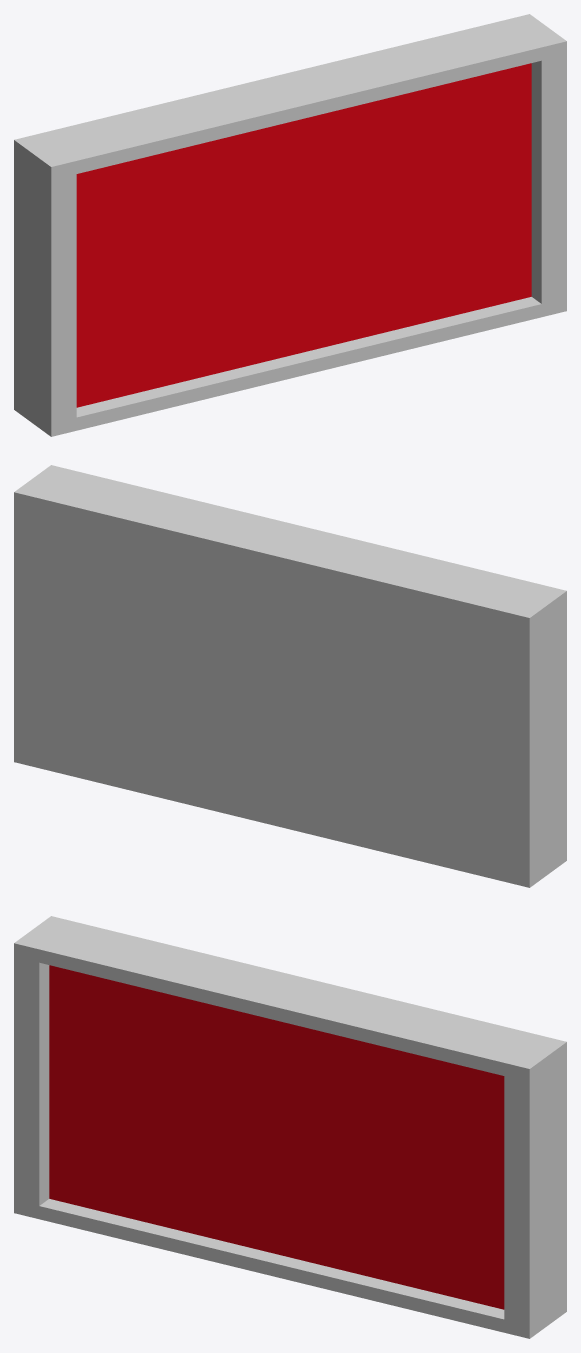
File: Wall 8x4x1 Solid.fbx
3 views of the same model, one above another, from view 1: azimuth 30°, elevation 25°; view 2: azimuth 150°, elevation 25°; view 3: azimuth 330°, elevation 25° (orthographic).
Visible parts, largest first — view 1: wall 8x4x1; view 2: wall 8x4x1; view 3: wall 8x4x1.
Part boxes in pixels (x1,y1,x2,y2): wall 8x4x1: (14,14,566,436); wall 8x4x1: (14,465,566,887); wall 8x4x1: (14,916,566,1338).
Bounding box in the file's own units: 8 × 4 × 1.
